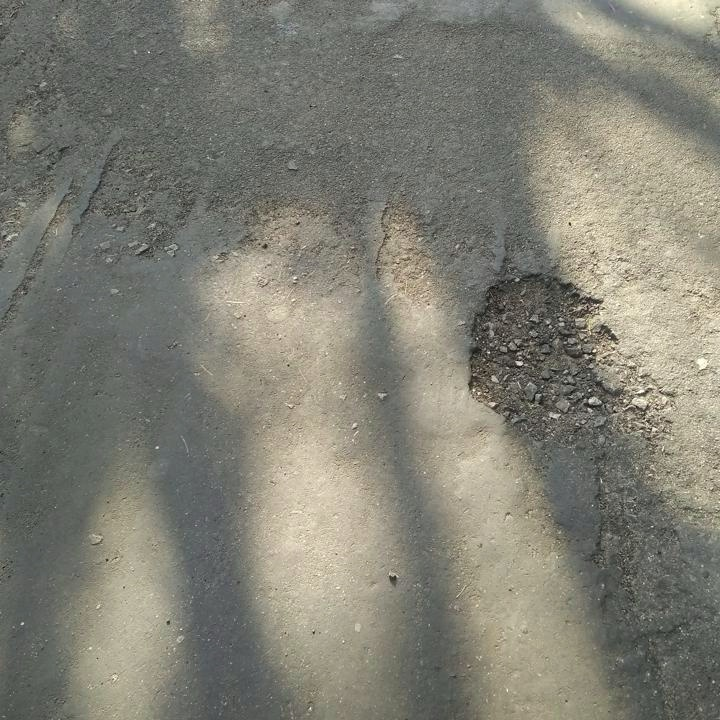pothole: (458, 265, 640, 434)
